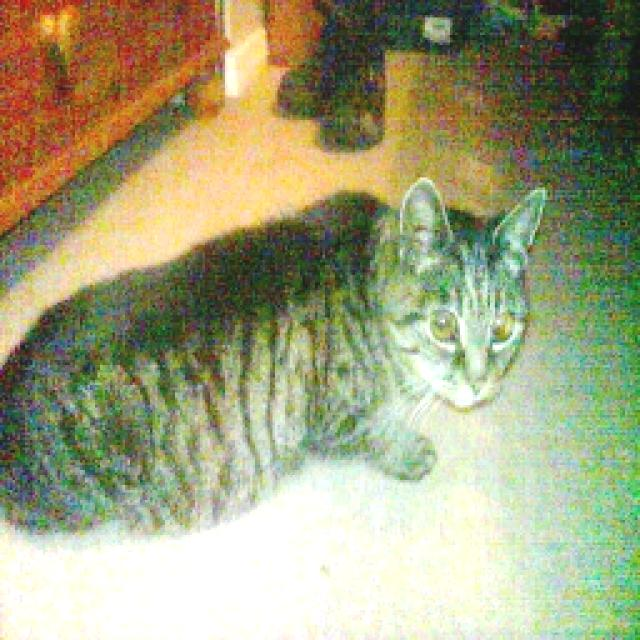cat: (0, 171, 561, 574)
